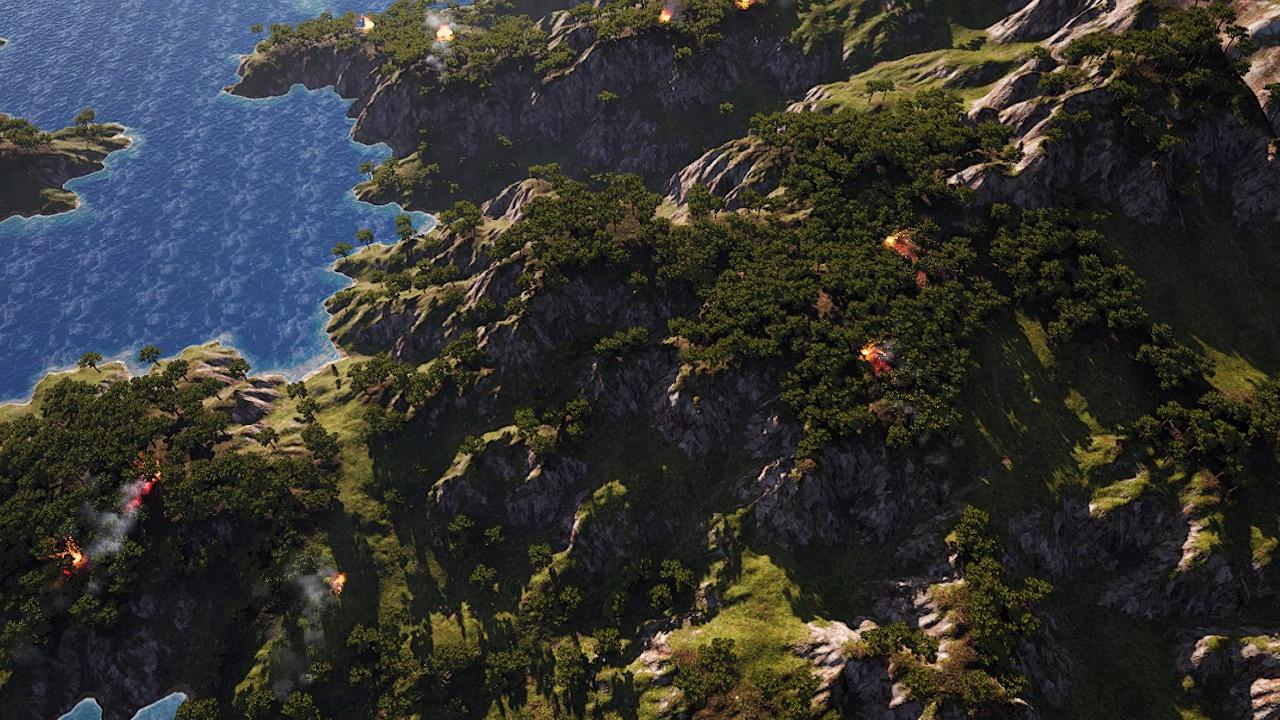fire: (130, 451, 168, 513), (883, 231, 921, 261), (856, 342, 889, 374), (60, 543, 87, 572), (326, 571, 350, 596), (433, 24, 456, 42), (357, 18, 379, 33), (732, 0, 756, 8), (659, 9, 672, 22)
smoke: (269, 564, 343, 702), (84, 475, 145, 566), (421, 3, 463, 73)
